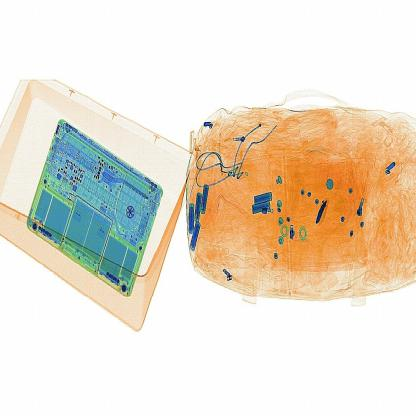wrench: (312, 192, 338, 232)
